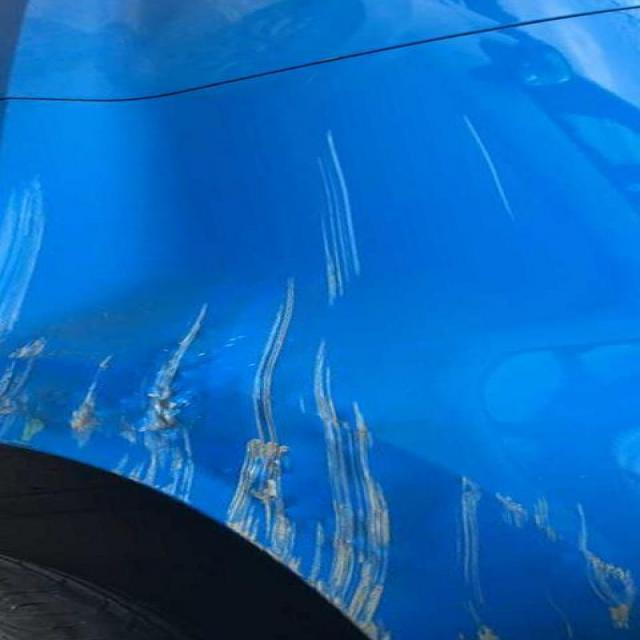scratch: (0, 298, 437, 639), (453, 465, 639, 640), (273, 125, 380, 308), (452, 105, 528, 242)
